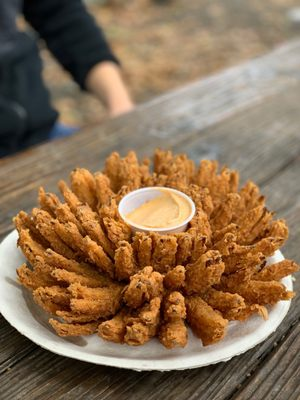sushi: (118, 186, 196, 235)
